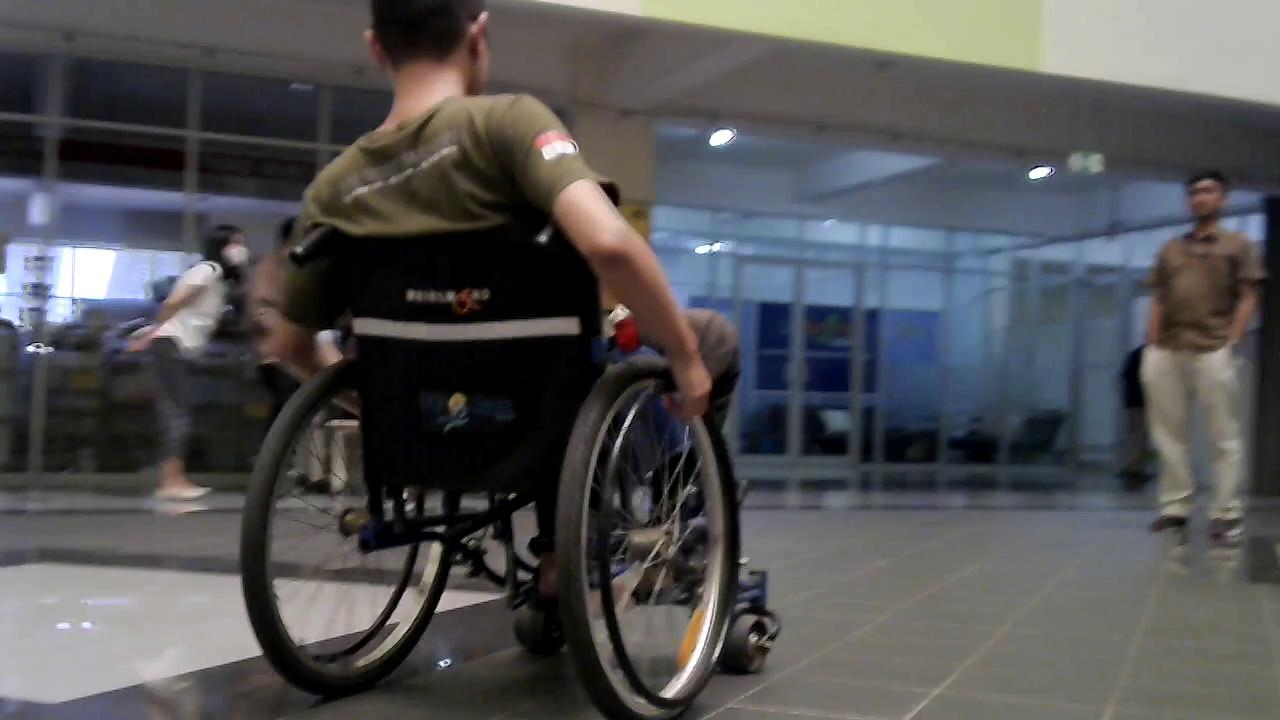person: (270, 4, 735, 653), (1135, 174, 1263, 548), (111, 226, 246, 516)
wheelchair: (205, 204, 800, 720)
